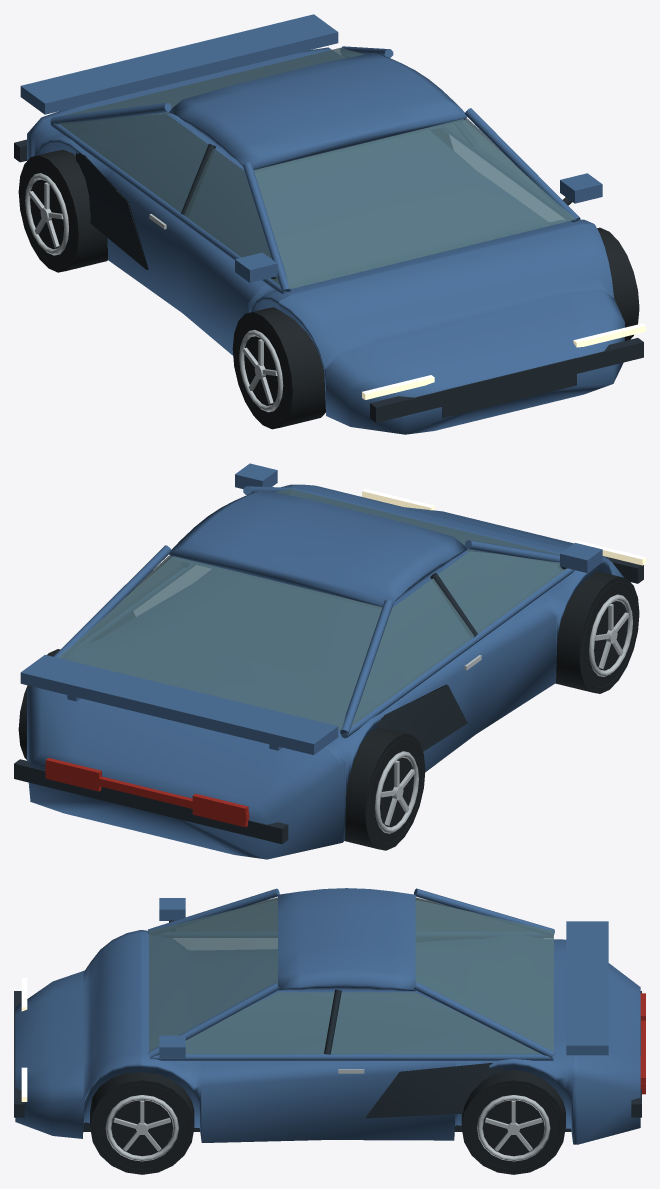
Rendered from volt.glb.
3 renders of one model, top to bottom at view 1: azimuth 30°, elevation 25°; view 2: azimuth 150°, elevation 25°; view 3: azimuth 270°, elevation 25°, orthographic. The views are drawn at different scales.
Visible parts, largest first — view 1: exterior-paint, windows, black-trim, tire-front-left, tire-rear-left, tire-front-right, rim-rear-left, rim-front-left, headlights; view 2: exterior-paint, windows, black-trim, tire-front-left, tire-rear-left, taillights, rim-rear-left, rim-front-left, headlights; view 3: exterior-paint, windows, tire-front-right, tire-rear-right, black-trim, rim-rear-right, rim-front-right, taillights, headlights.
Part boxes in pixels (left/top/right/bottom): exterior-paint: left=20, top=14, right=624, bottom=434; windows: left=58, top=47, right=574, bottom=288; black-trim: left=14, top=129, right=643, bottom=422; tire-front-left: left=232, top=307, right=325, bottom=429; tire-rear-left: left=18, top=149, right=107, bottom=272; tire-front-right: left=597, top=227, right=639, bottom=340; rim-rear-left: left=25, top=173, right=68, bottom=255; rim-front-left: left=239, top=330, right=283, bottom=412; headlights: left=362, top=323, right=645, bottom=399; exterior-paint: left=20, top=463, right=623, bottom=859; windows: left=58, top=488, right=567, bottom=730; black-trim: left=14, top=556, right=643, bottom=844; tire-front-left: left=555, top=571, right=639, bottom=693; tire-rear-left: left=345, top=727, right=425, bottom=850; taillights: left=45, top=758, right=249, bottom=827; rim-rear-left: left=375, top=751, right=418, bottom=833; rim-front-left: left=589, top=594, right=632, bottom=676; headlights: left=362, top=488, right=645, bottom=565; exterior-paint: left=15, top=888, right=640, bottom=1144; windows: left=149, top=897, right=553, bottom=1053; tire-front-right: left=90, top=1072, right=194, bottom=1174; tire-rear-right: left=461, top=1070, right=565, bottom=1174; black-trim: left=14, top=919, right=641, bottom=1131; rim-rear-right: left=477, top=1095, right=550, bottom=1161; rim-front-right: left=105, top=1095, right=178, bottom=1161; taillights: left=640, top=993, right=645, bottom=1094; headlights: left=21, top=978, right=27, bottom=1101.
Size of the model in its own units: 2.19 by 1.18 by 3.88.
